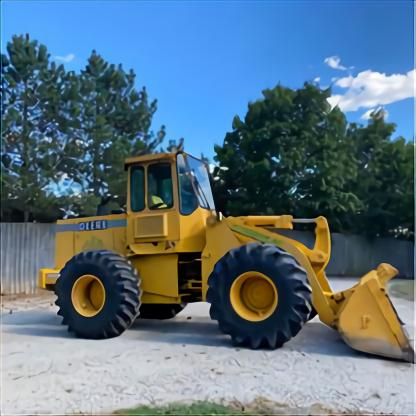bull_dozer/loader/grader: (47, 146, 415, 370)
